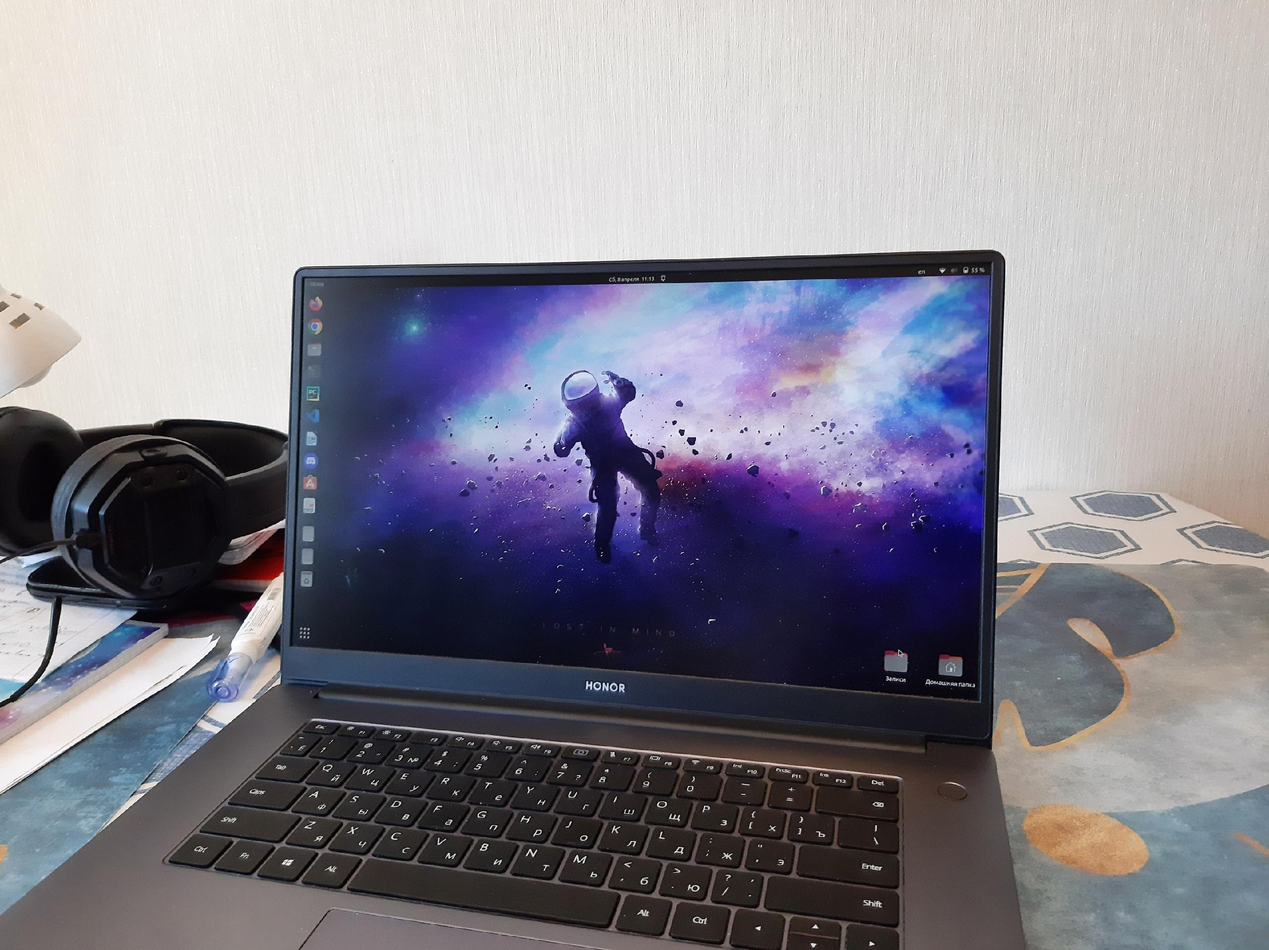monitor: (271, 240, 1015, 760)
